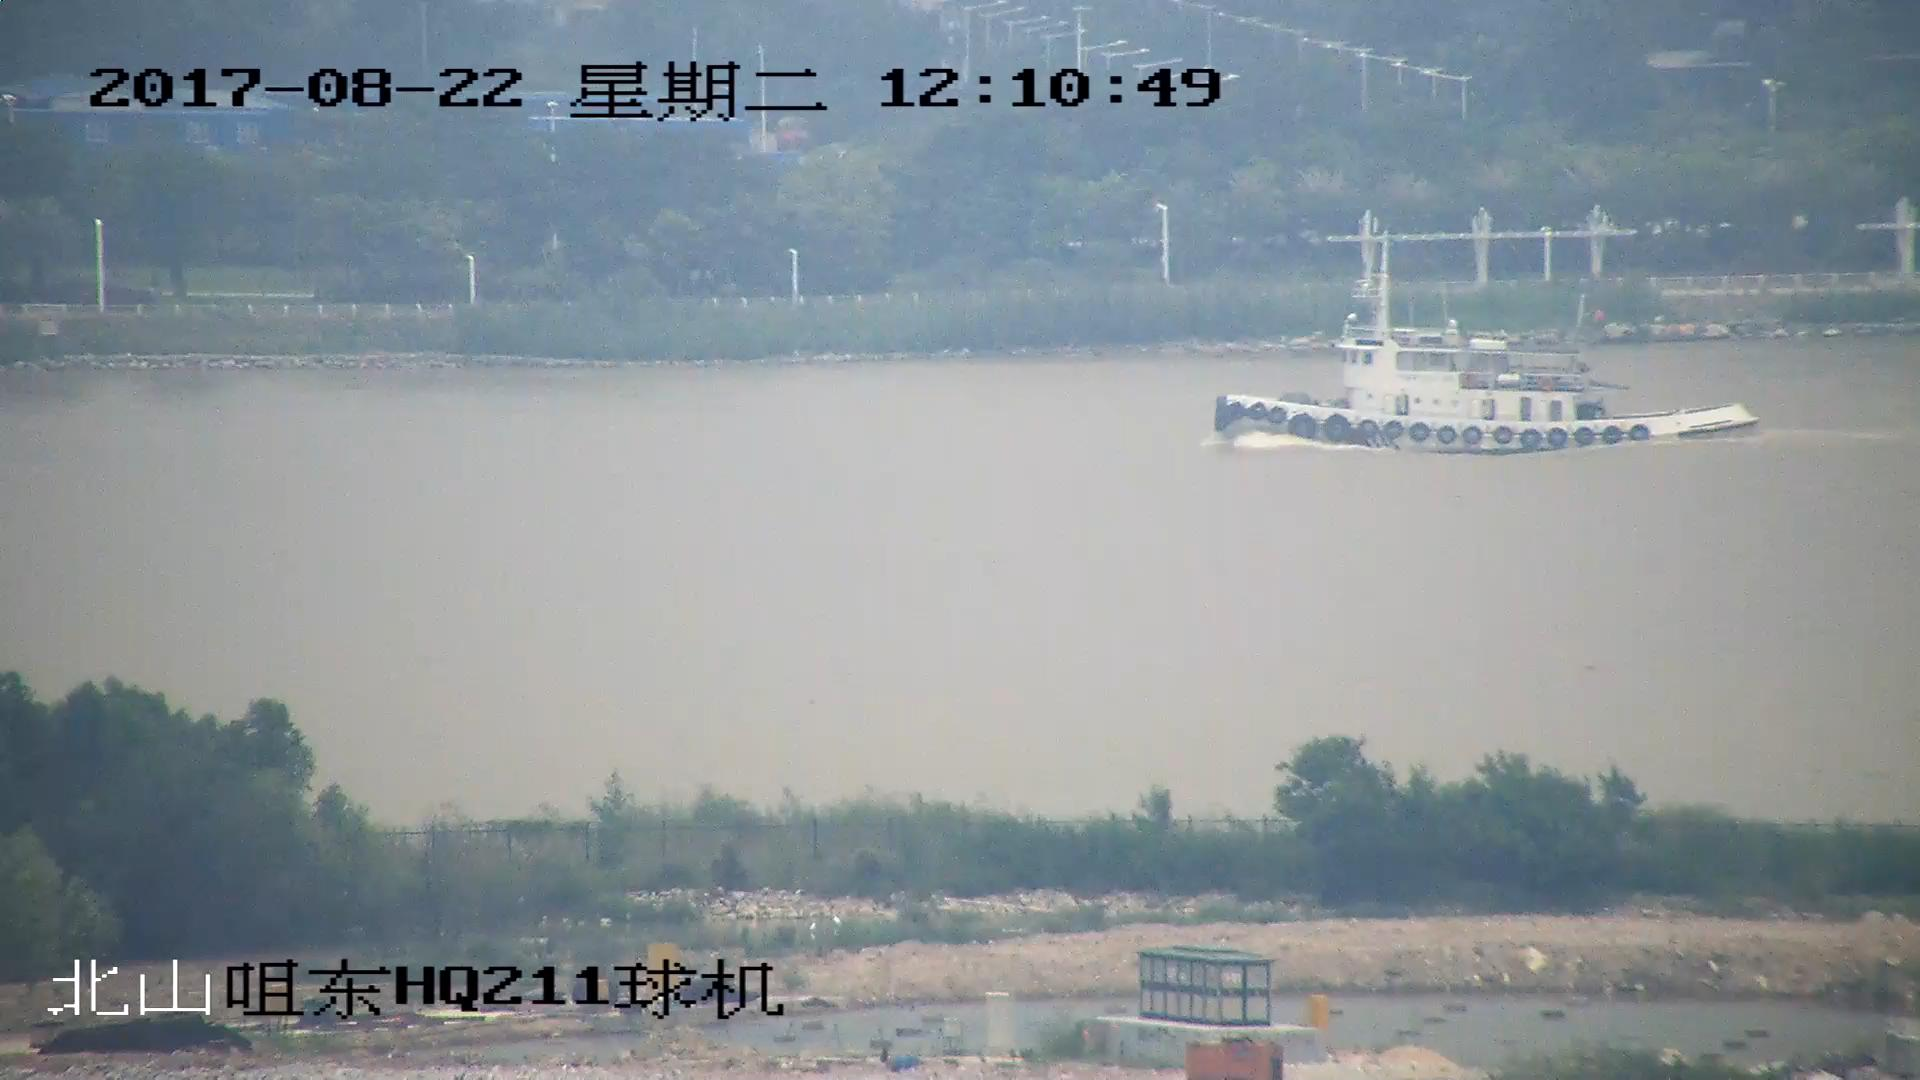passenger ship: (1211, 241, 1766, 460)
